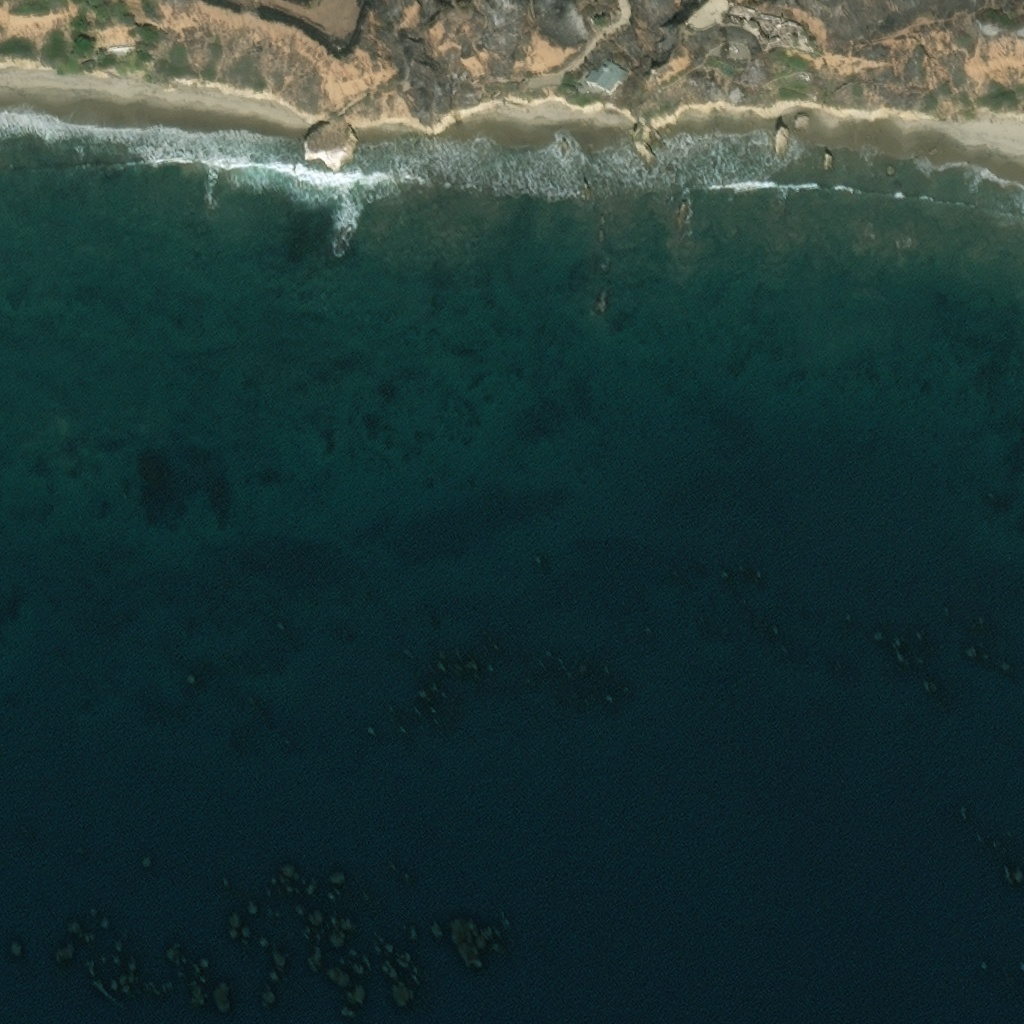0 no-damage: (585, 62, 627, 98)
3 destroyed: (740, 6, 802, 48), (726, 2, 744, 22)
